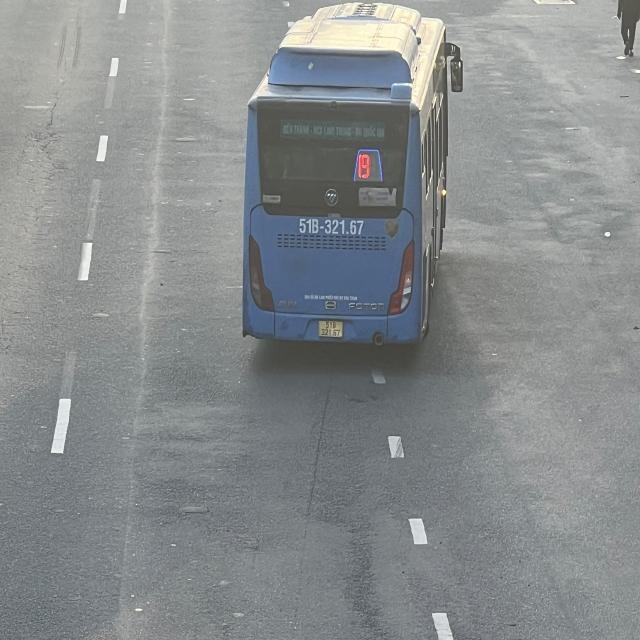coach: (238, 5, 466, 356)
